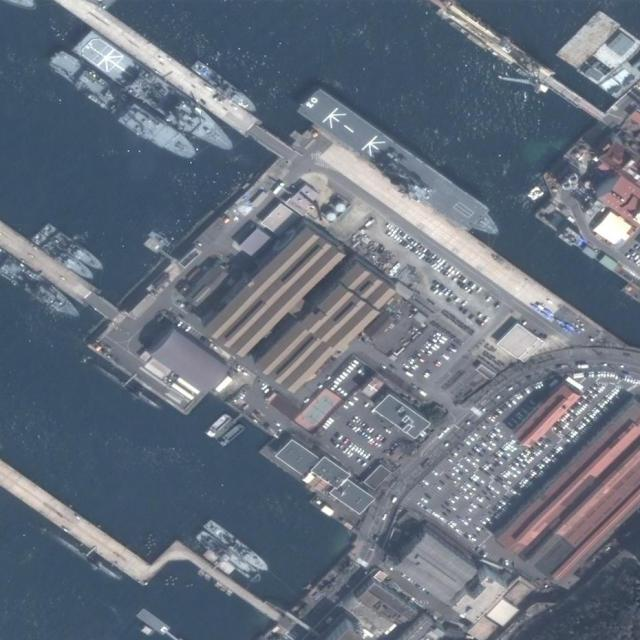Auxiliary Ships: (45, 47, 200, 171)
Landing: (297, 84, 510, 248), (71, 26, 244, 160)
Other Warship: (3, 259, 84, 324), (195, 528, 266, 586), (189, 59, 261, 116), (202, 518, 272, 574), (30, 231, 98, 284), (39, 222, 107, 275)
Submarine: (92, 363, 161, 408), (54, 535, 122, 580)
